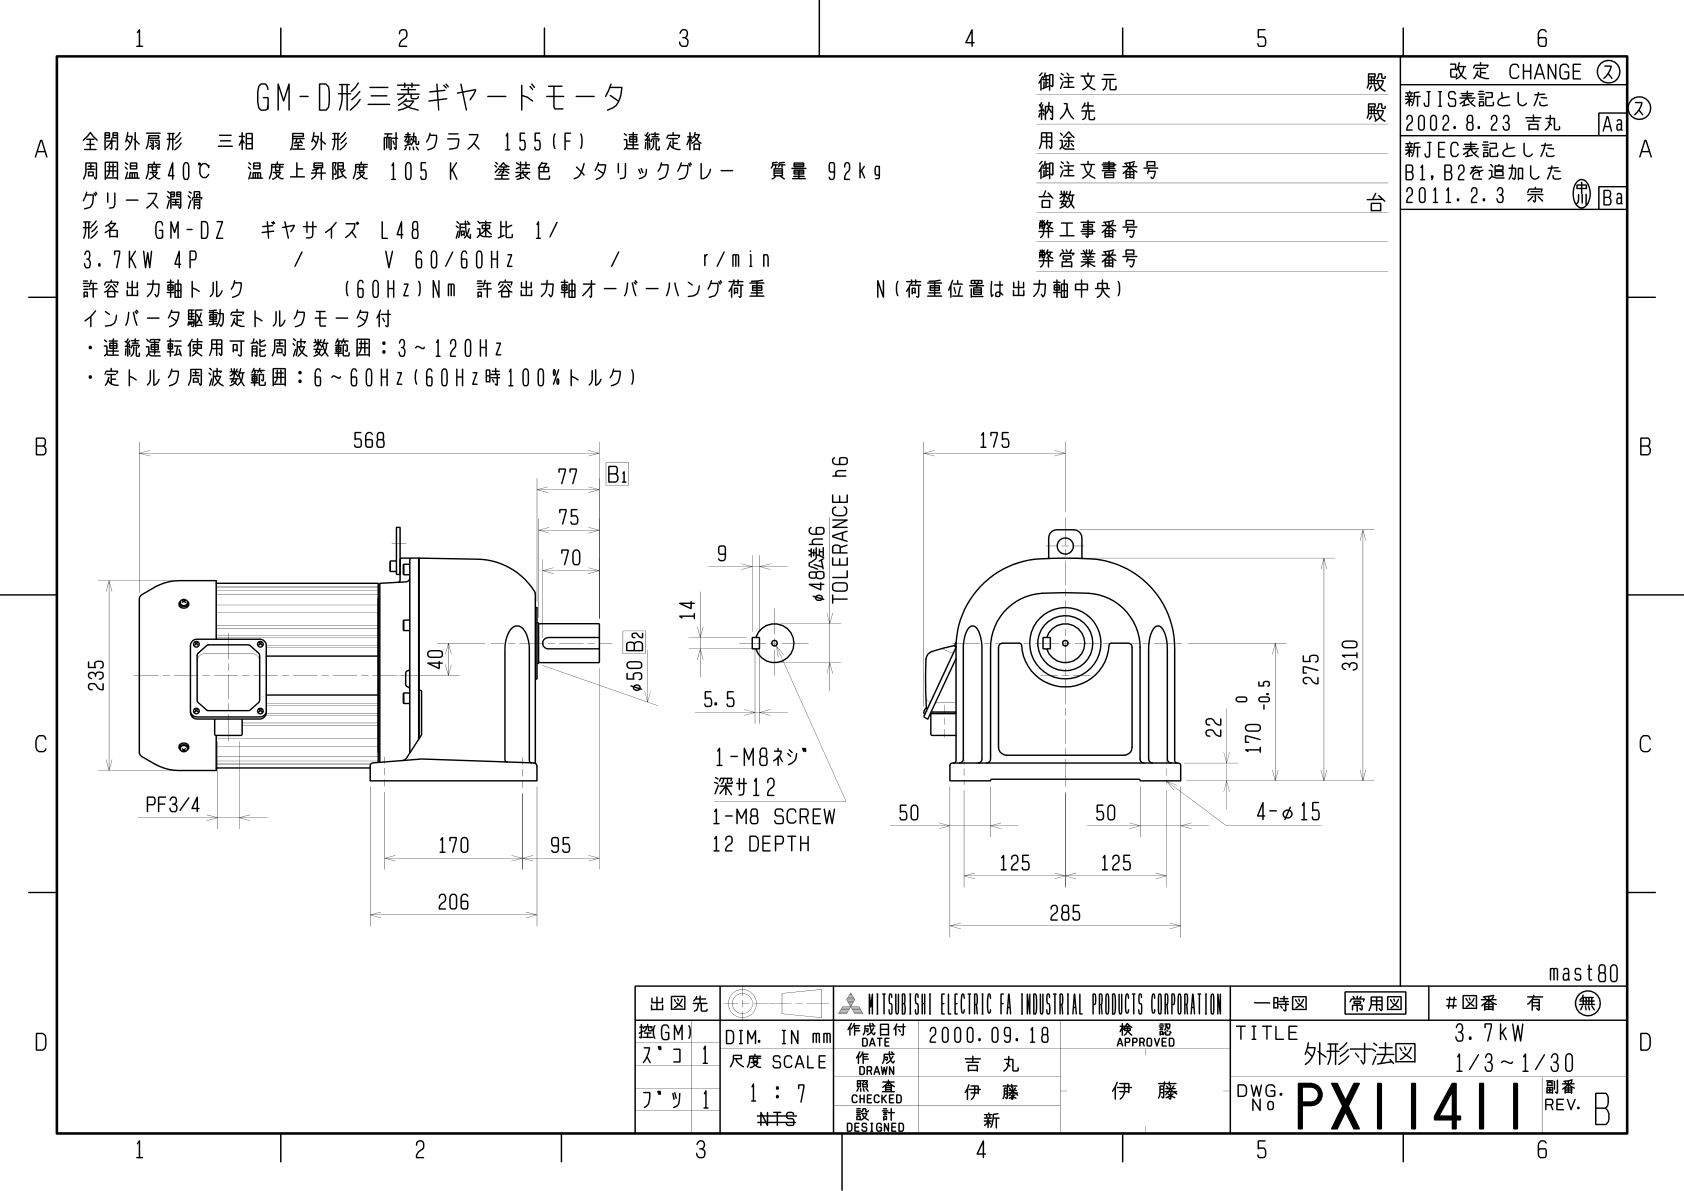GM_D_インバータ屋外_三相_脚: (1, 1, 1669, 1181)
